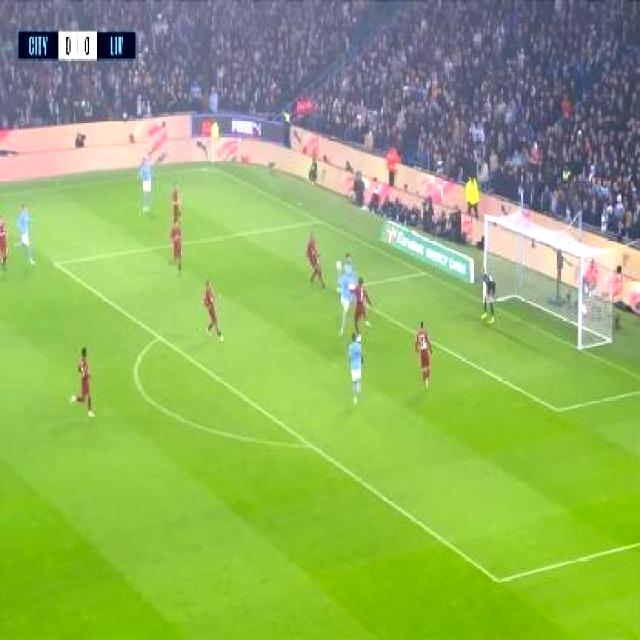bigarea_bottom_inner: (488, 566, 506, 594)
bigarea_top_inner: (48, 254, 62, 271)
bigarea_top_outter: (314, 213, 323, 224)
bottom_arc_area_intersection: (303, 436, 317, 456)
corner: (205, 162, 217, 170)
smallarea_bottom_inner: (546, 395, 565, 423)
smallarea_top_outter: (417, 266, 428, 279)
top_arc_area_intersection: (152, 328, 165, 344)
